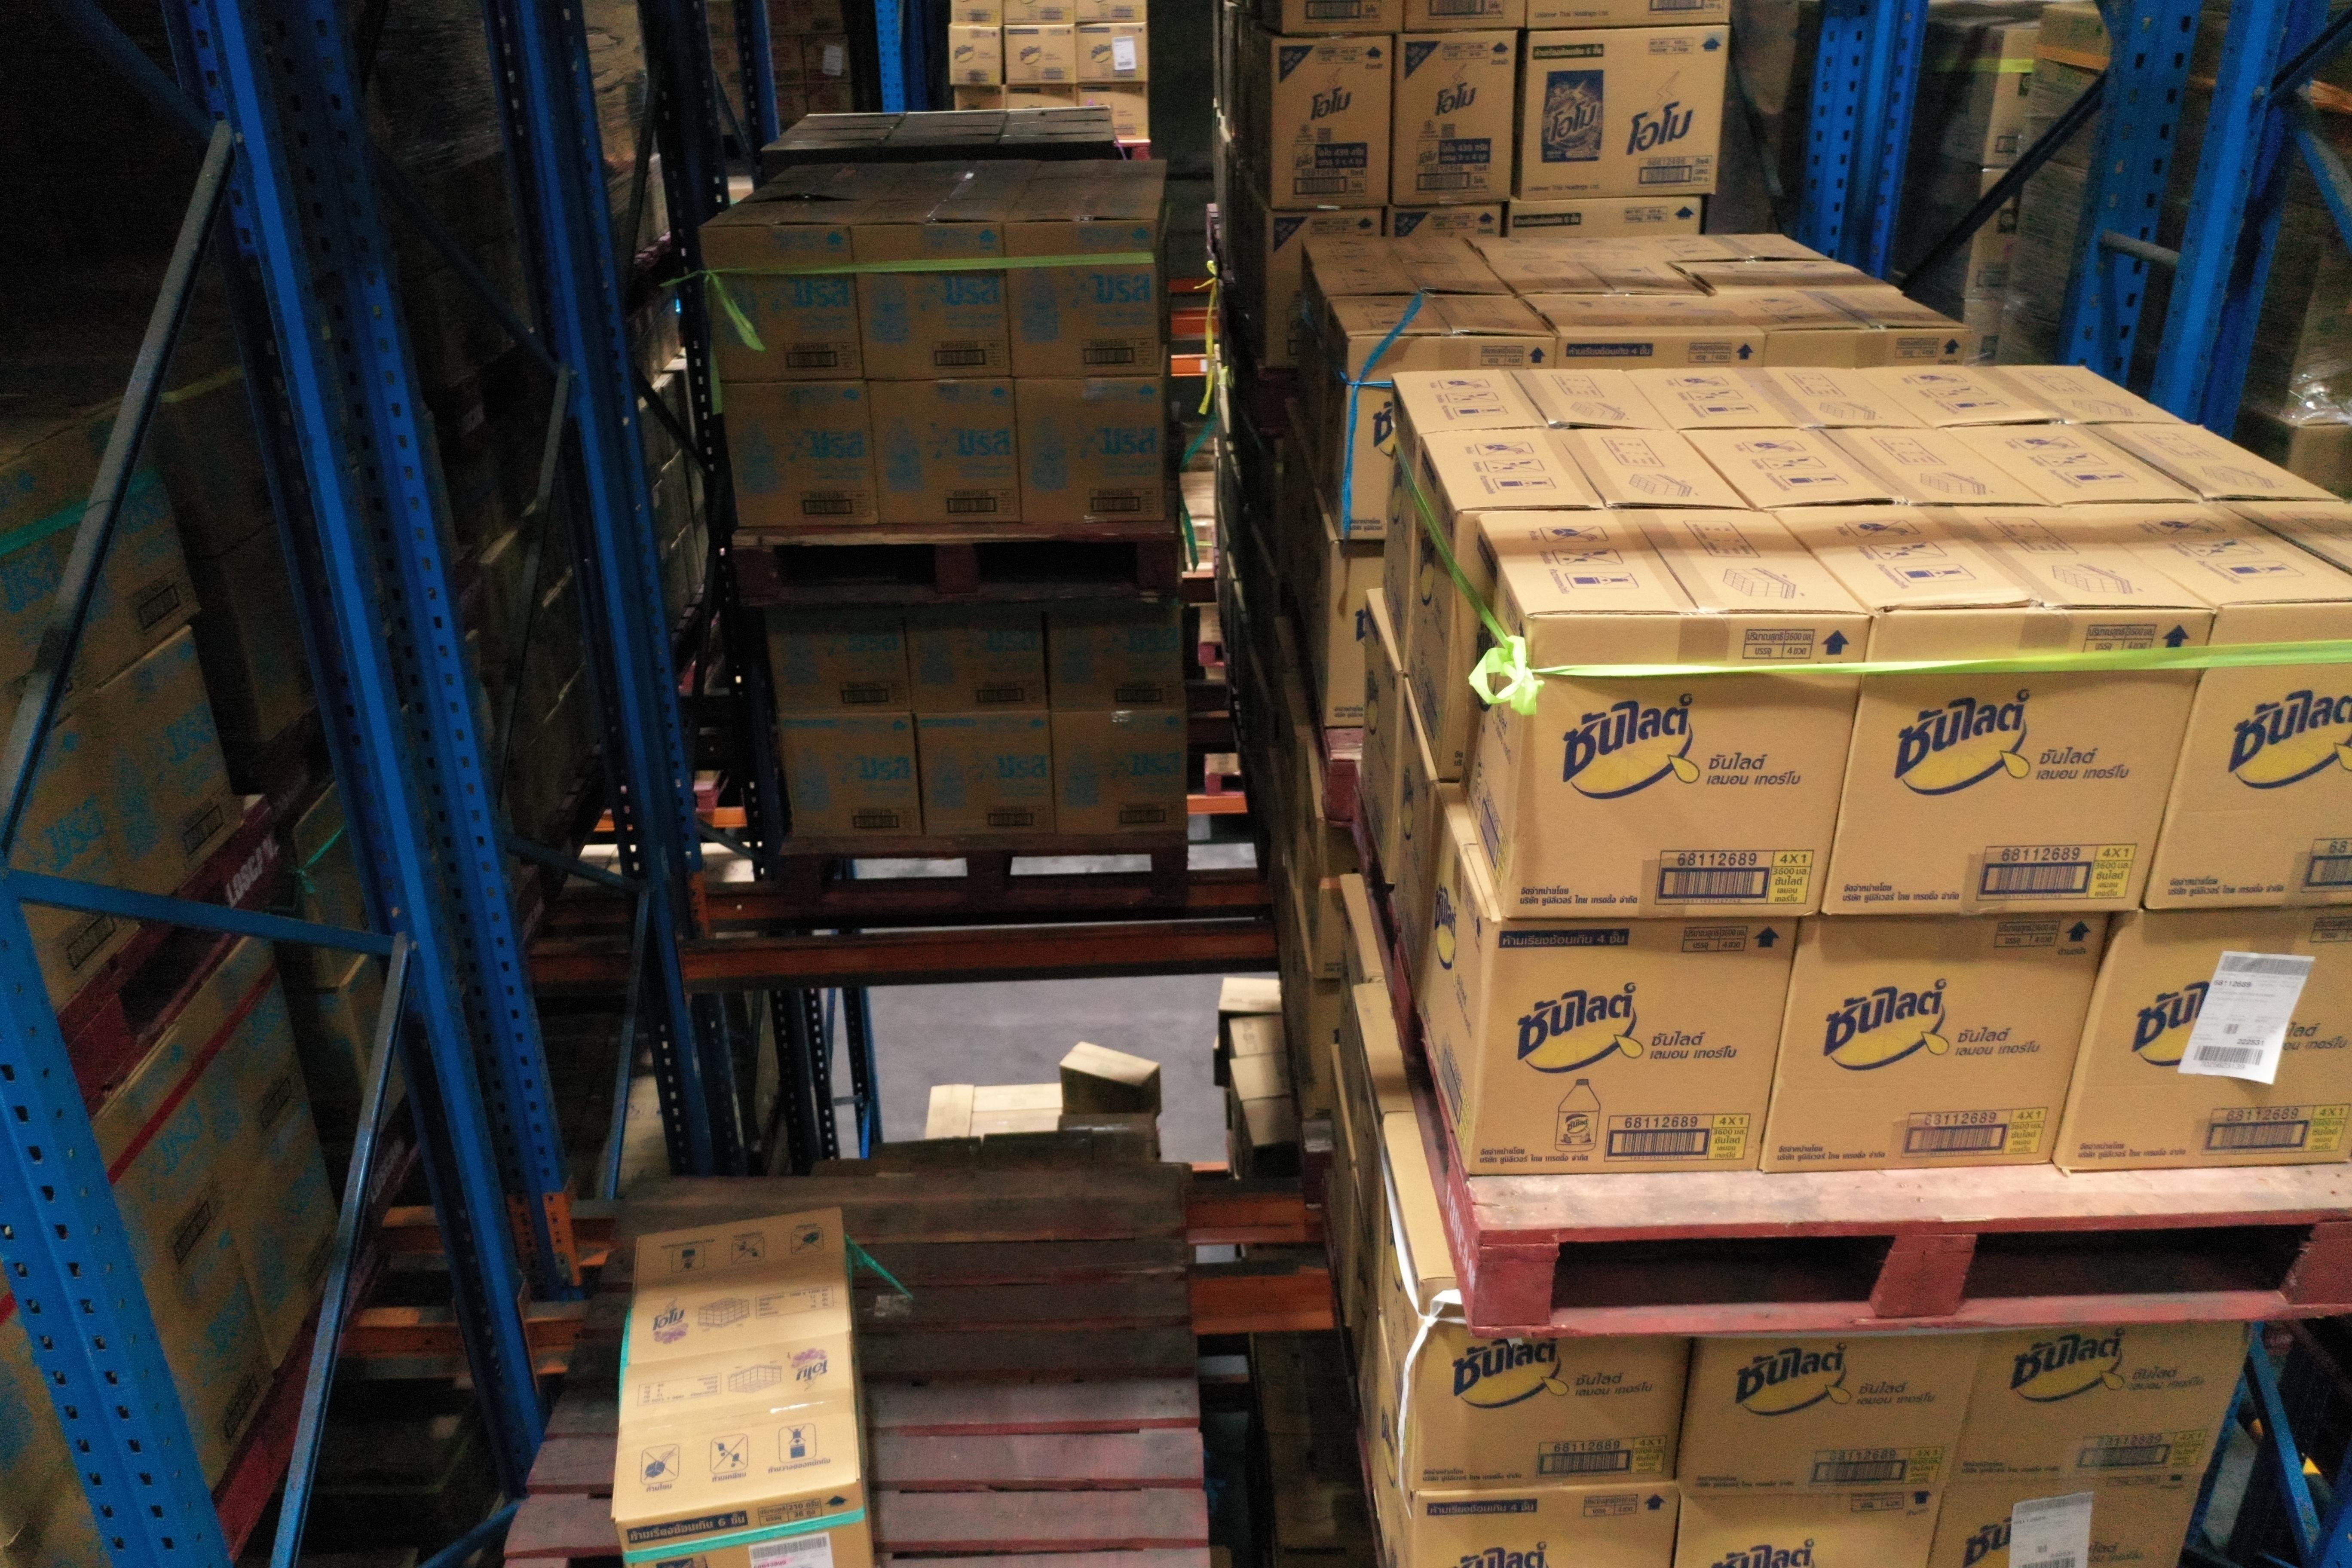-: (1822, 604, 2215, 919), (1498, 611, 1871, 922), (1755, 912, 2110, 1172), (1466, 913, 1802, 1178), (2063, 898, 2352, 1172), (2142, 598, 2352, 912), (1410, 1284, 1696, 1491), (1676, 1328, 1990, 1496), (1953, 1319, 2254, 1486), (1925, 1475, 2205, 1568), (612, 1477, 880, 1568), (1410, 1482, 1682, 1568), (1671, 1493, 1946, 1568)
2: (1519, 23, 1732, 205), (849, 219, 1015, 380), (702, 224, 864, 381), (1008, 219, 1162, 380), (716, 378, 884, 525), (866, 376, 1025, 525), (1017, 374, 1171, 525), (1388, 31, 1519, 205), (1270, 38, 1393, 210), (915, 714, 1060, 840), (777, 716, 927, 835), (903, 598, 1053, 714), (766, 602, 913, 719), (1053, 710, 1190, 835), (1048, 595, 1190, 714)
